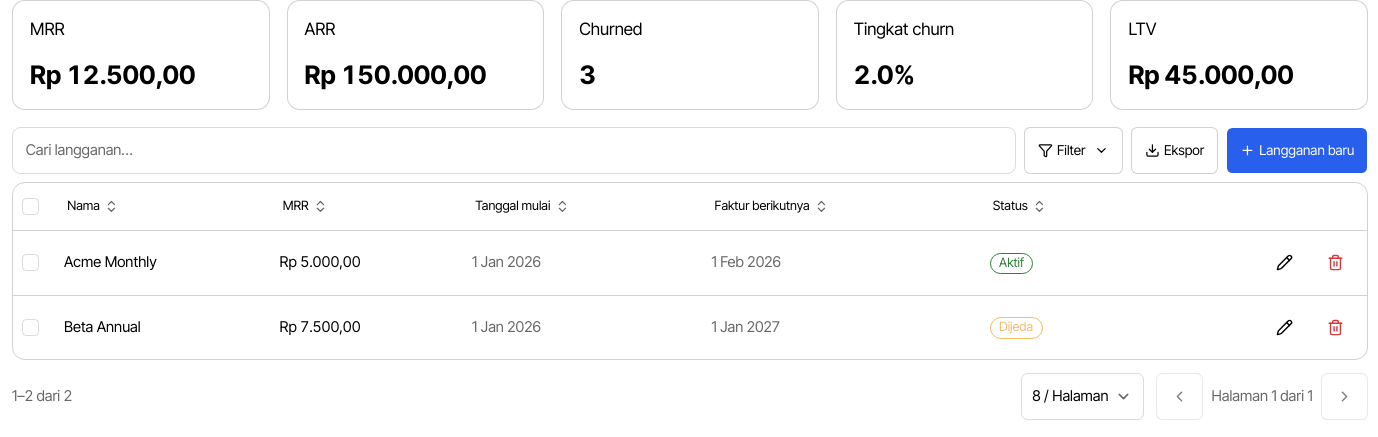
Test: SubscriptionsSection › filters subscriptions through the search box
Expected: the link "Acme Monthly" is shown, [64,253,157,271]
Type "Beta" into the search field with placeholder "Cari langganan…". click: (514, 150)
box: [12,127,1016,174]
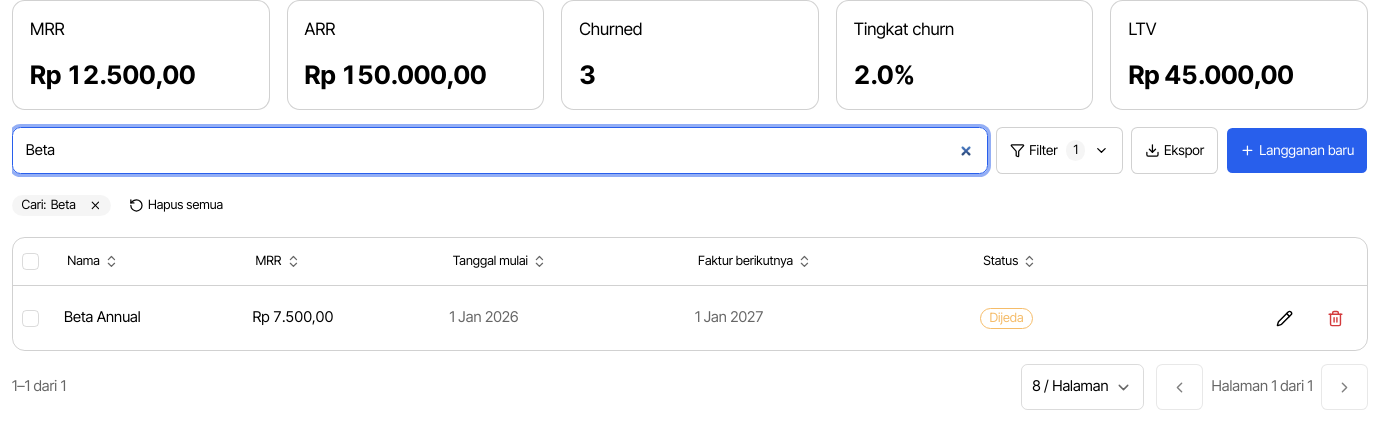
Expected: the link "Beta Annual" is shown, [64,308,141,326]
Result: the link "Acme Monthly" is gone
